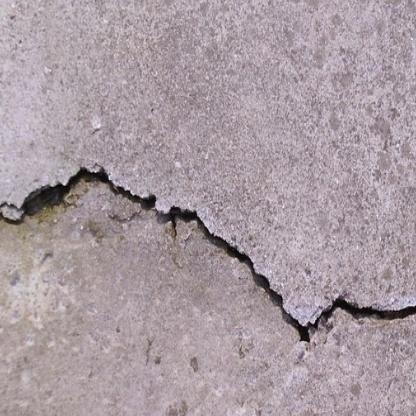Cracks: (0, 162, 416, 345)
